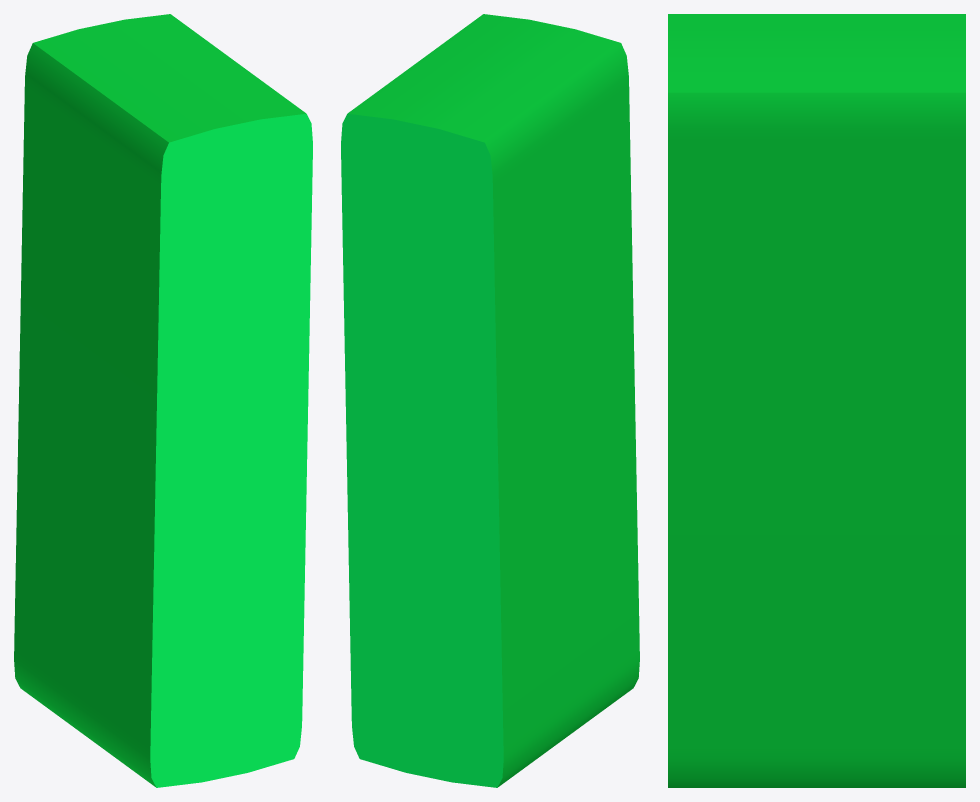
Rendered from L_Zyzol_Green.glb.
The picture shows the model from 3 angles, left to right: view 1: azimuth 30°, elevation 25°; view 2: azimuth 150°, elevation 25°; view 3: azimuth 270°, elevation 25°; orthographic projection. The views are drawn at different scales.
Parts seen in each view (by area): view 1: l_Zyzol_Green; view 2: l_Zyzol_Green; view 3: l_Zyzol_Green.
Part boxes in pixels (<box>): l_Zyzol_Green: <box>14,14,312,787</box>; l_Zyzol_Green: <box>341,14,639,787</box>; l_Zyzol_Green: <box>668,14,965,787</box>.
Size of what is drawn, in the model's own units: 0.031 by 0.1188 by 0.045.
Materials: 2 (2 with a texture image).
